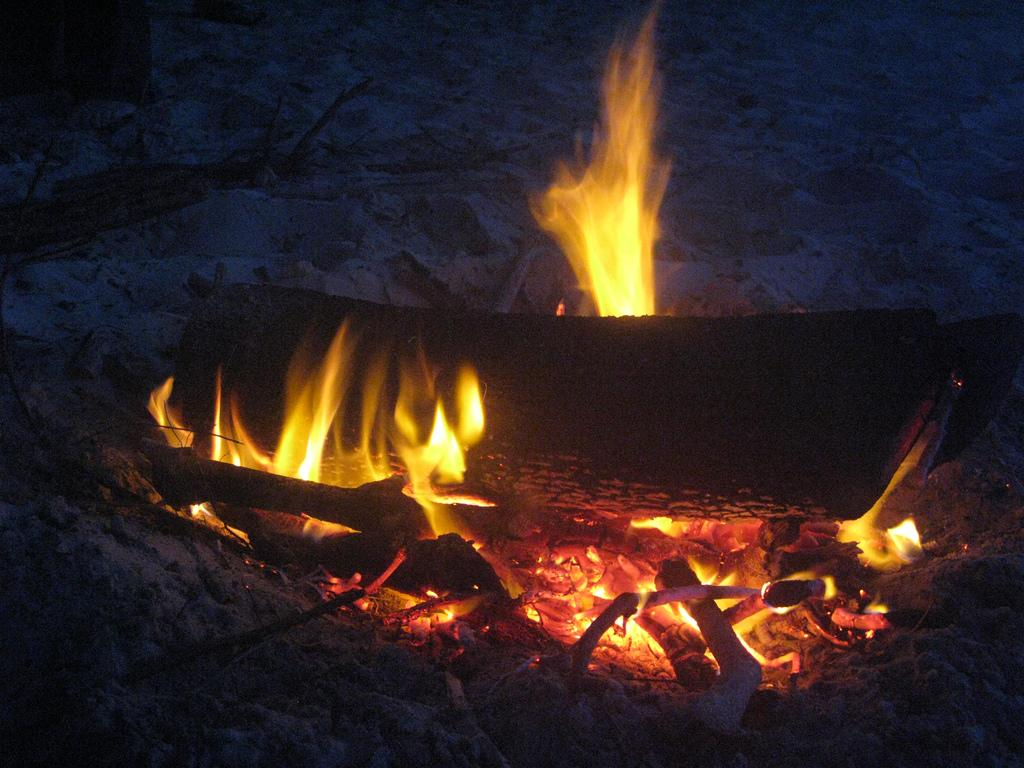fire: (576, 184, 646, 320), (426, 382, 490, 472), (280, 396, 334, 470)
